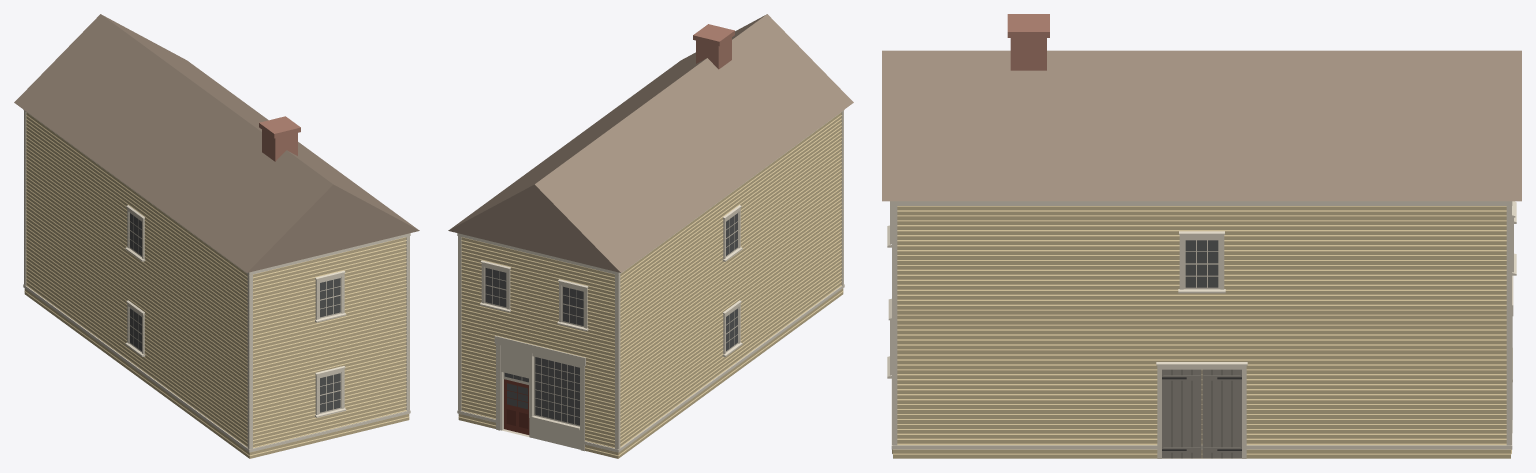
The model's file is recon_1835_south_c3_040__inferred_1835.glb.
The picture shows the model from 3 angles, left to right: view 1: azimuth 30°, elevation 25°; view 2: azimuth 150°, elevation 25°; view 3: azimuth 270°, elevation 25°; orthographic projection. The views are drawn at different scales.
Parts seen in each view (by area): view 1: recon_1835_south_c3_040__inferred_1835; view 2: recon_1835_south_c3_040__inferred_1835; view 3: recon_1835_south_c3_040__inferred_1835.
Part boxes in pixels (left/top/right/bottom): recon_1835_south_c3_040__inferred_1835: left=14, top=14, right=419, bottom=458; recon_1835_south_c3_040__inferred_1835: left=448, top=14, right=853, bottom=458; recon_1835_south_c3_040__inferred_1835: left=882, top=14, right=1521, bottom=458.
Bounding box in the file's own units: 6.36 × 9.77 × 14.83.
